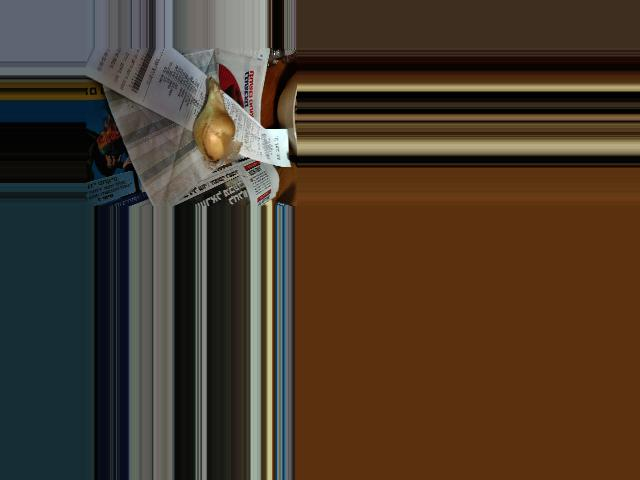onion: (191, 87, 231, 160)
